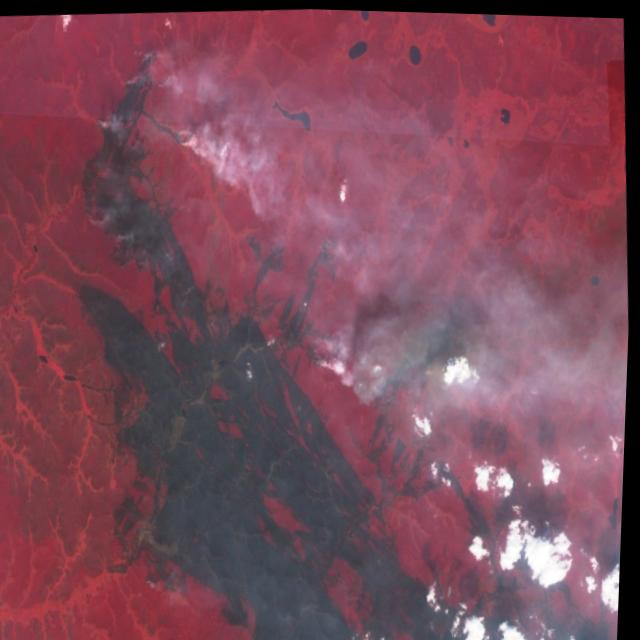fire: (399, 305, 467, 393), (120, 39, 172, 97), (312, 224, 351, 289), (160, 114, 202, 169), (236, 218, 273, 269), (300, 328, 335, 378), (92, 103, 125, 145)
